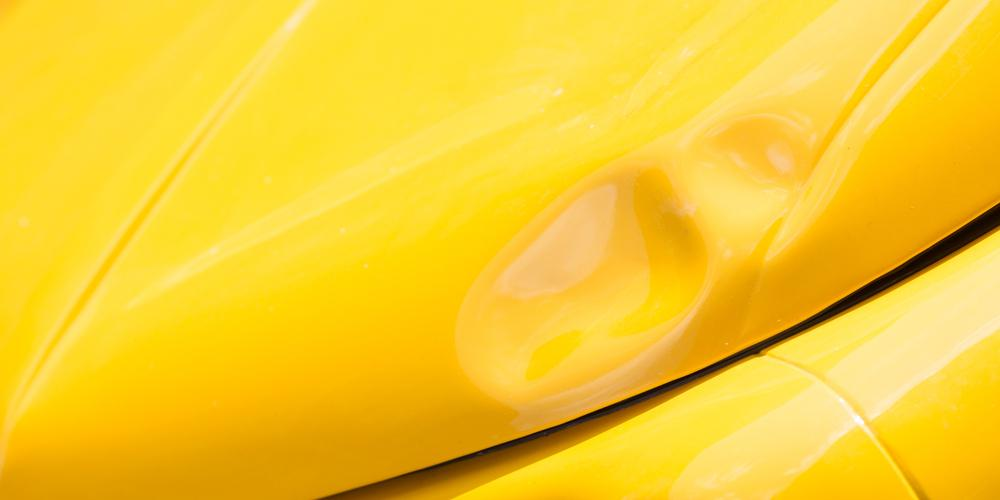dent: (462, 173, 709, 402), (689, 116, 812, 252)
